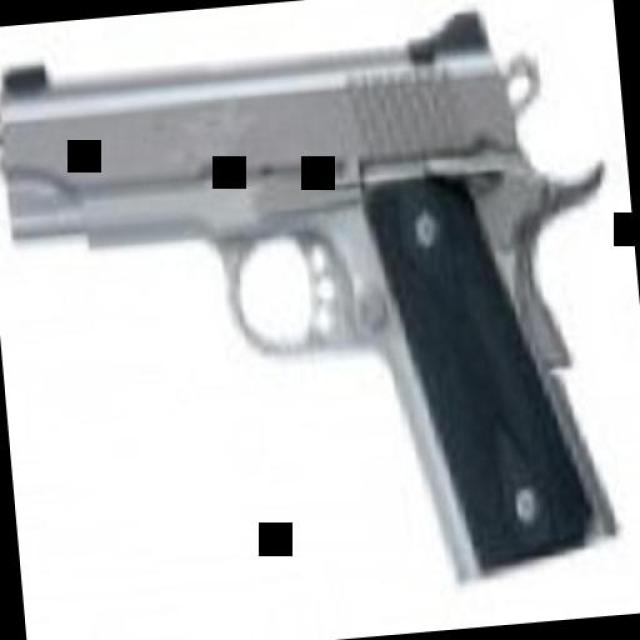gun: (0, 5, 636, 621)
